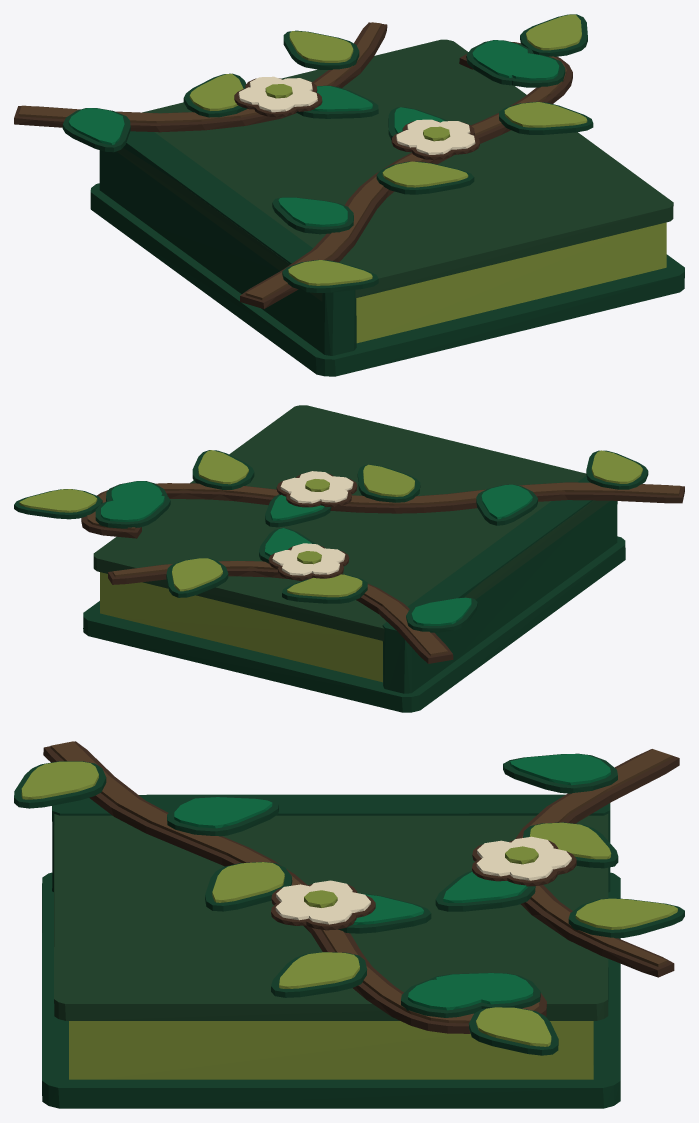
The model's file is book_trepadeira.fbx.
3 views of the same model, one above another, from view 1: azimuth 30°, elevation 25°; view 2: azimuth 150°, elevation 25°; view 3: azimuth 270°, elevation 25° (orthographic). The views are drawn at different scales.
Parts seen in each view (by area): view 1: book_trepadeira_livro; view 2: book_trepadeira_livro; view 3: book_trepadeira_livro.
Part boxes in pixels (box(x1,y1,x2,y2)): book_trepadeira_livro: box(14, 14, 684, 376); book_trepadeira_livro: box(14, 405, 684, 712); book_trepadeira_livro: box(14, 741, 684, 1108).
Bounding box in the file's own units: 3.61 × 0.687 × 3.24.
Materials: 1 (1 with a texture image).
